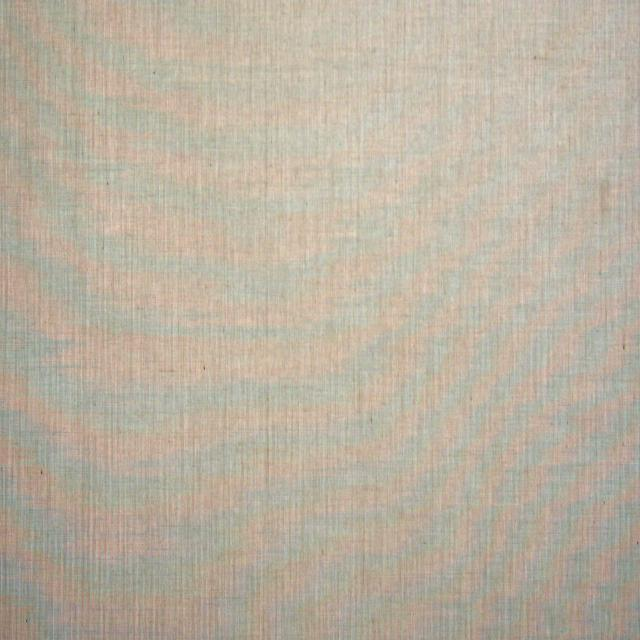dirty: (601, 179, 609, 207)
